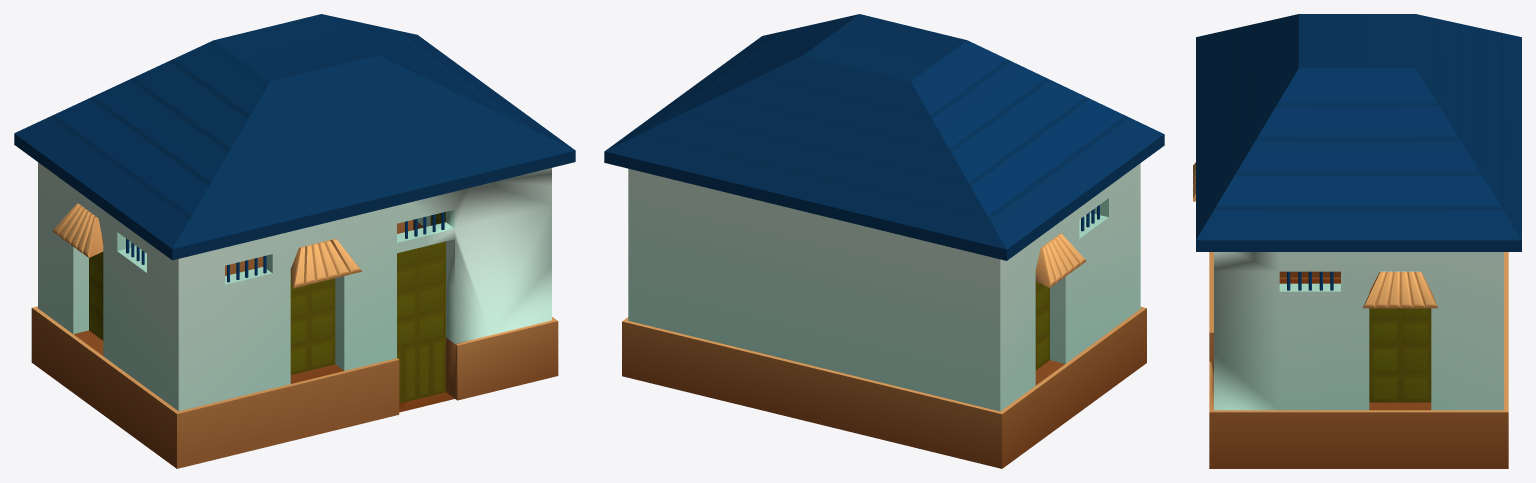
File: abandonedHouse.FBX
The picture shows the model from 3 angles, left to right: view 1: azimuth 30°, elevation 25°; view 2: azimuth 150°, elevation 25°; view 3: azimuth 270°, elevation 25°; orthographic projection. The views are drawn at different scales.
Parts seen in each view (by area): view 1: Box004, door, window02, window01; view 2: Box004, window01; view 3: Box004, window04.
Boxes of the visible parts, x1,y1,x2,y2 form: Box004: (14, 14, 575, 468); door: (397, 241, 445, 403); window02: (290, 278, 335, 374); window01: (89, 252, 103, 340); Box004: (604, 14, 1164, 468); window01: (1035, 281, 1049, 369); Box004: (1193, 14, 1521, 468); window04: (1369, 308, 1431, 402).
Bounding box in the file's own units: 214 × 162 × 146.
